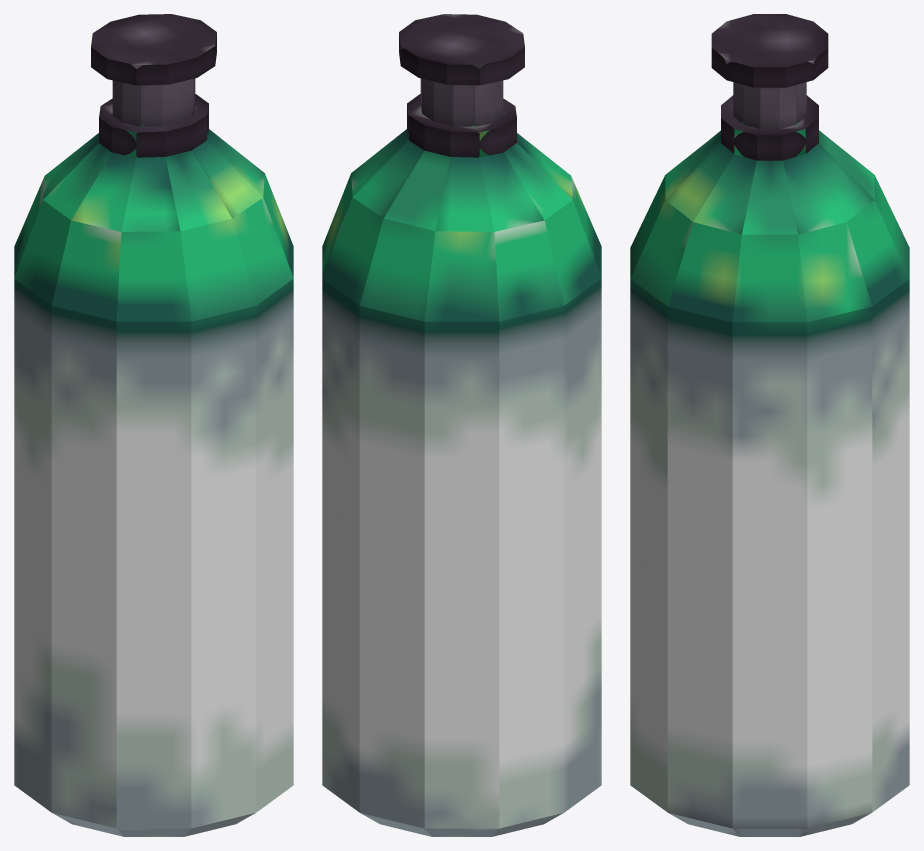
Rendered from oxygen.fbx.
3 renders of one model, left to right at view 1: azimuth 30°, elevation 25°; view 2: azimuth 150°, elevation 25°; view 3: azimuth 270°, elevation 25°, orthographic.
Visible parts, largest first — view 1: oxygen_mesh; view 2: oxygen_mesh; view 3: oxygen_mesh.
Boxes of the visible parts, left/top/right/bottom form: oxygen_mesh: left=14, top=14, right=293, bottom=836; oxygen_mesh: left=322, top=14, right=601, bottom=836; oxygen_mesh: left=630, top=14, right=909, bottom=836.
Size of the model in its own units: 0.9766 by 2.89 by 0.9766.
1 material, 1 textured.
